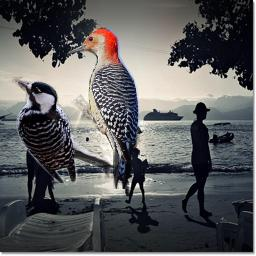Woodpecker: (67, 27, 140, 189), (12, 77, 113, 184)
